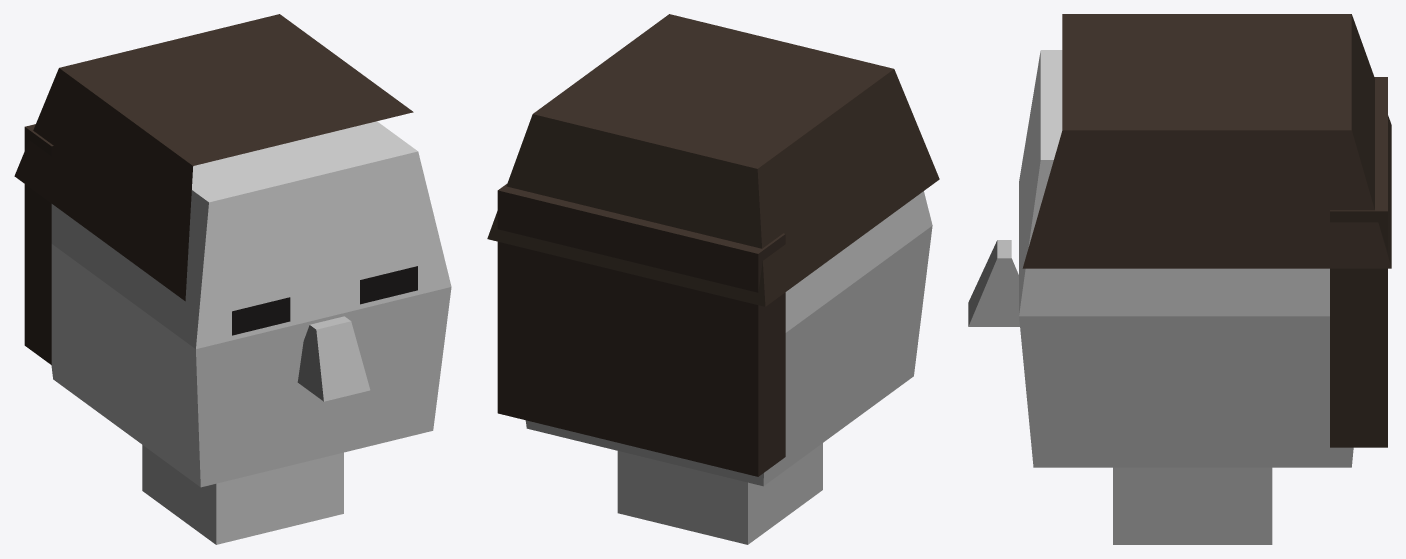
File: head_hd.glb
3 views of the same model, side by side, from view 1: azimuth 30°, elevation 25°; view 2: azimuth 150°, elevation 25°; view 3: azimuth 270°, elevation 25° (orthographic). The views are drawn at different scales.
Visible parts, largest first — view 1: head; view 2: head; view 3: head.
Boxes of the visible parts, x1,y1,x2,y2 form: head: (14,14,451,544); head: (487,14,939,544); head: (968,14,1391,544).
Bounding box in the file's own units: 0.235 × 0.335 × 0.2925.
